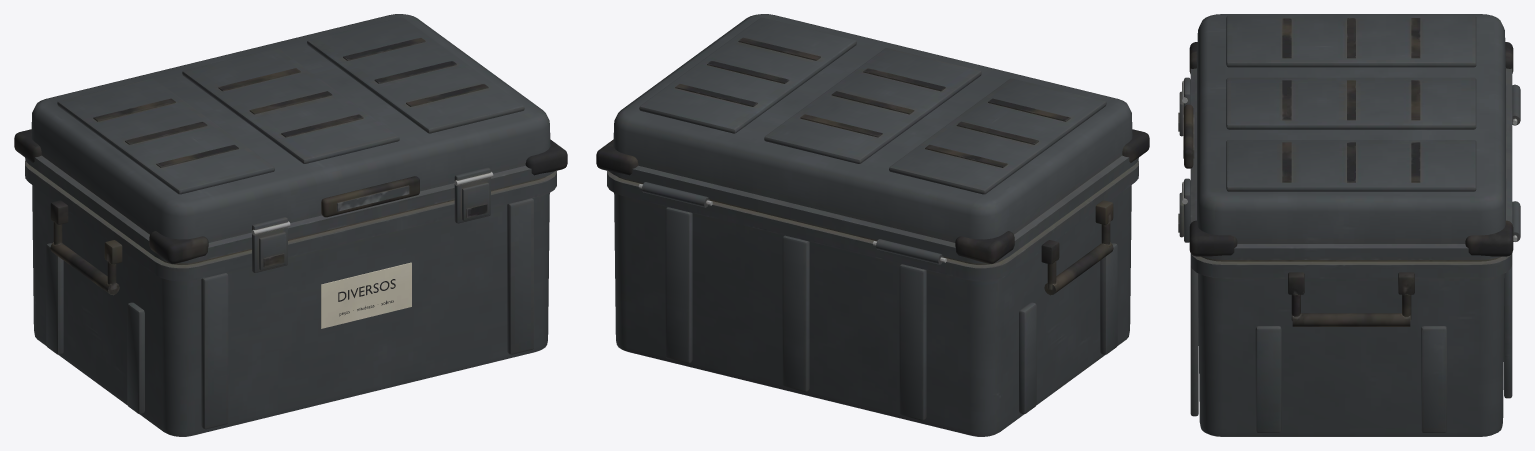
Rendered from estojo_diversos.glb.
3 views of the same model, side by side, from view 1: azimuth 30°, elevation 25°; view 2: azimuth 150°, elevation 25°; view 3: azimuth 270°, elevation 25° (orthographic). The views are drawn at different scales.
Parts seen in each view (by area): view 1: caixa, tampa, reforcos, ferragens, etiqueta; view 2: caixa, tampa, reforcos, ferragens; view 3: caixa, tampa, reforcos, ferragens.
Part boxes in pixels (box(x1,y1,x2,y2)): caixa: box(25, 14, 556, 436); tampa: box(57, 17, 524, 194); reforcos: box(14, 129, 567, 429); ferragens: box(50, 167, 493, 295); etiqueta: box(321, 262, 411, 328); caixa: box(607, 14, 1138, 436); tampa: box(639, 17, 1106, 194); reforcos: box(596, 129, 1149, 420); ferragens: box(638, 182, 1113, 295); caixa: box(1190, 14, 1512, 436); tampa: box(1226, 15, 1476, 191); reforcos: box(1189, 42, 1513, 432); ferragens: box(1178, 77, 1520, 326).
Size of the model in its own units: 0.543 by 0.2924 by 0.3722.
1 material, 1 textured.
